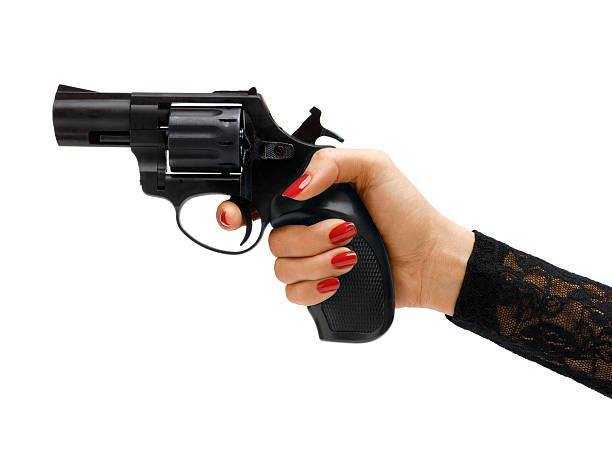weapon: (49, 78, 401, 346)
